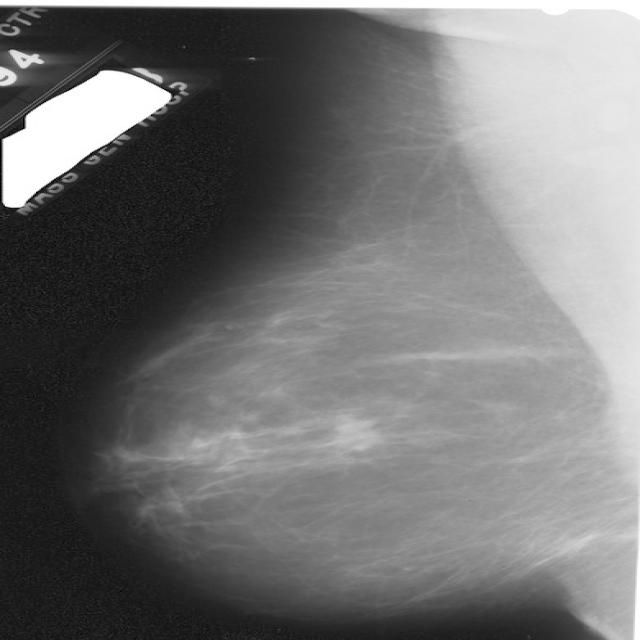tumour: (328, 412, 379, 450)
